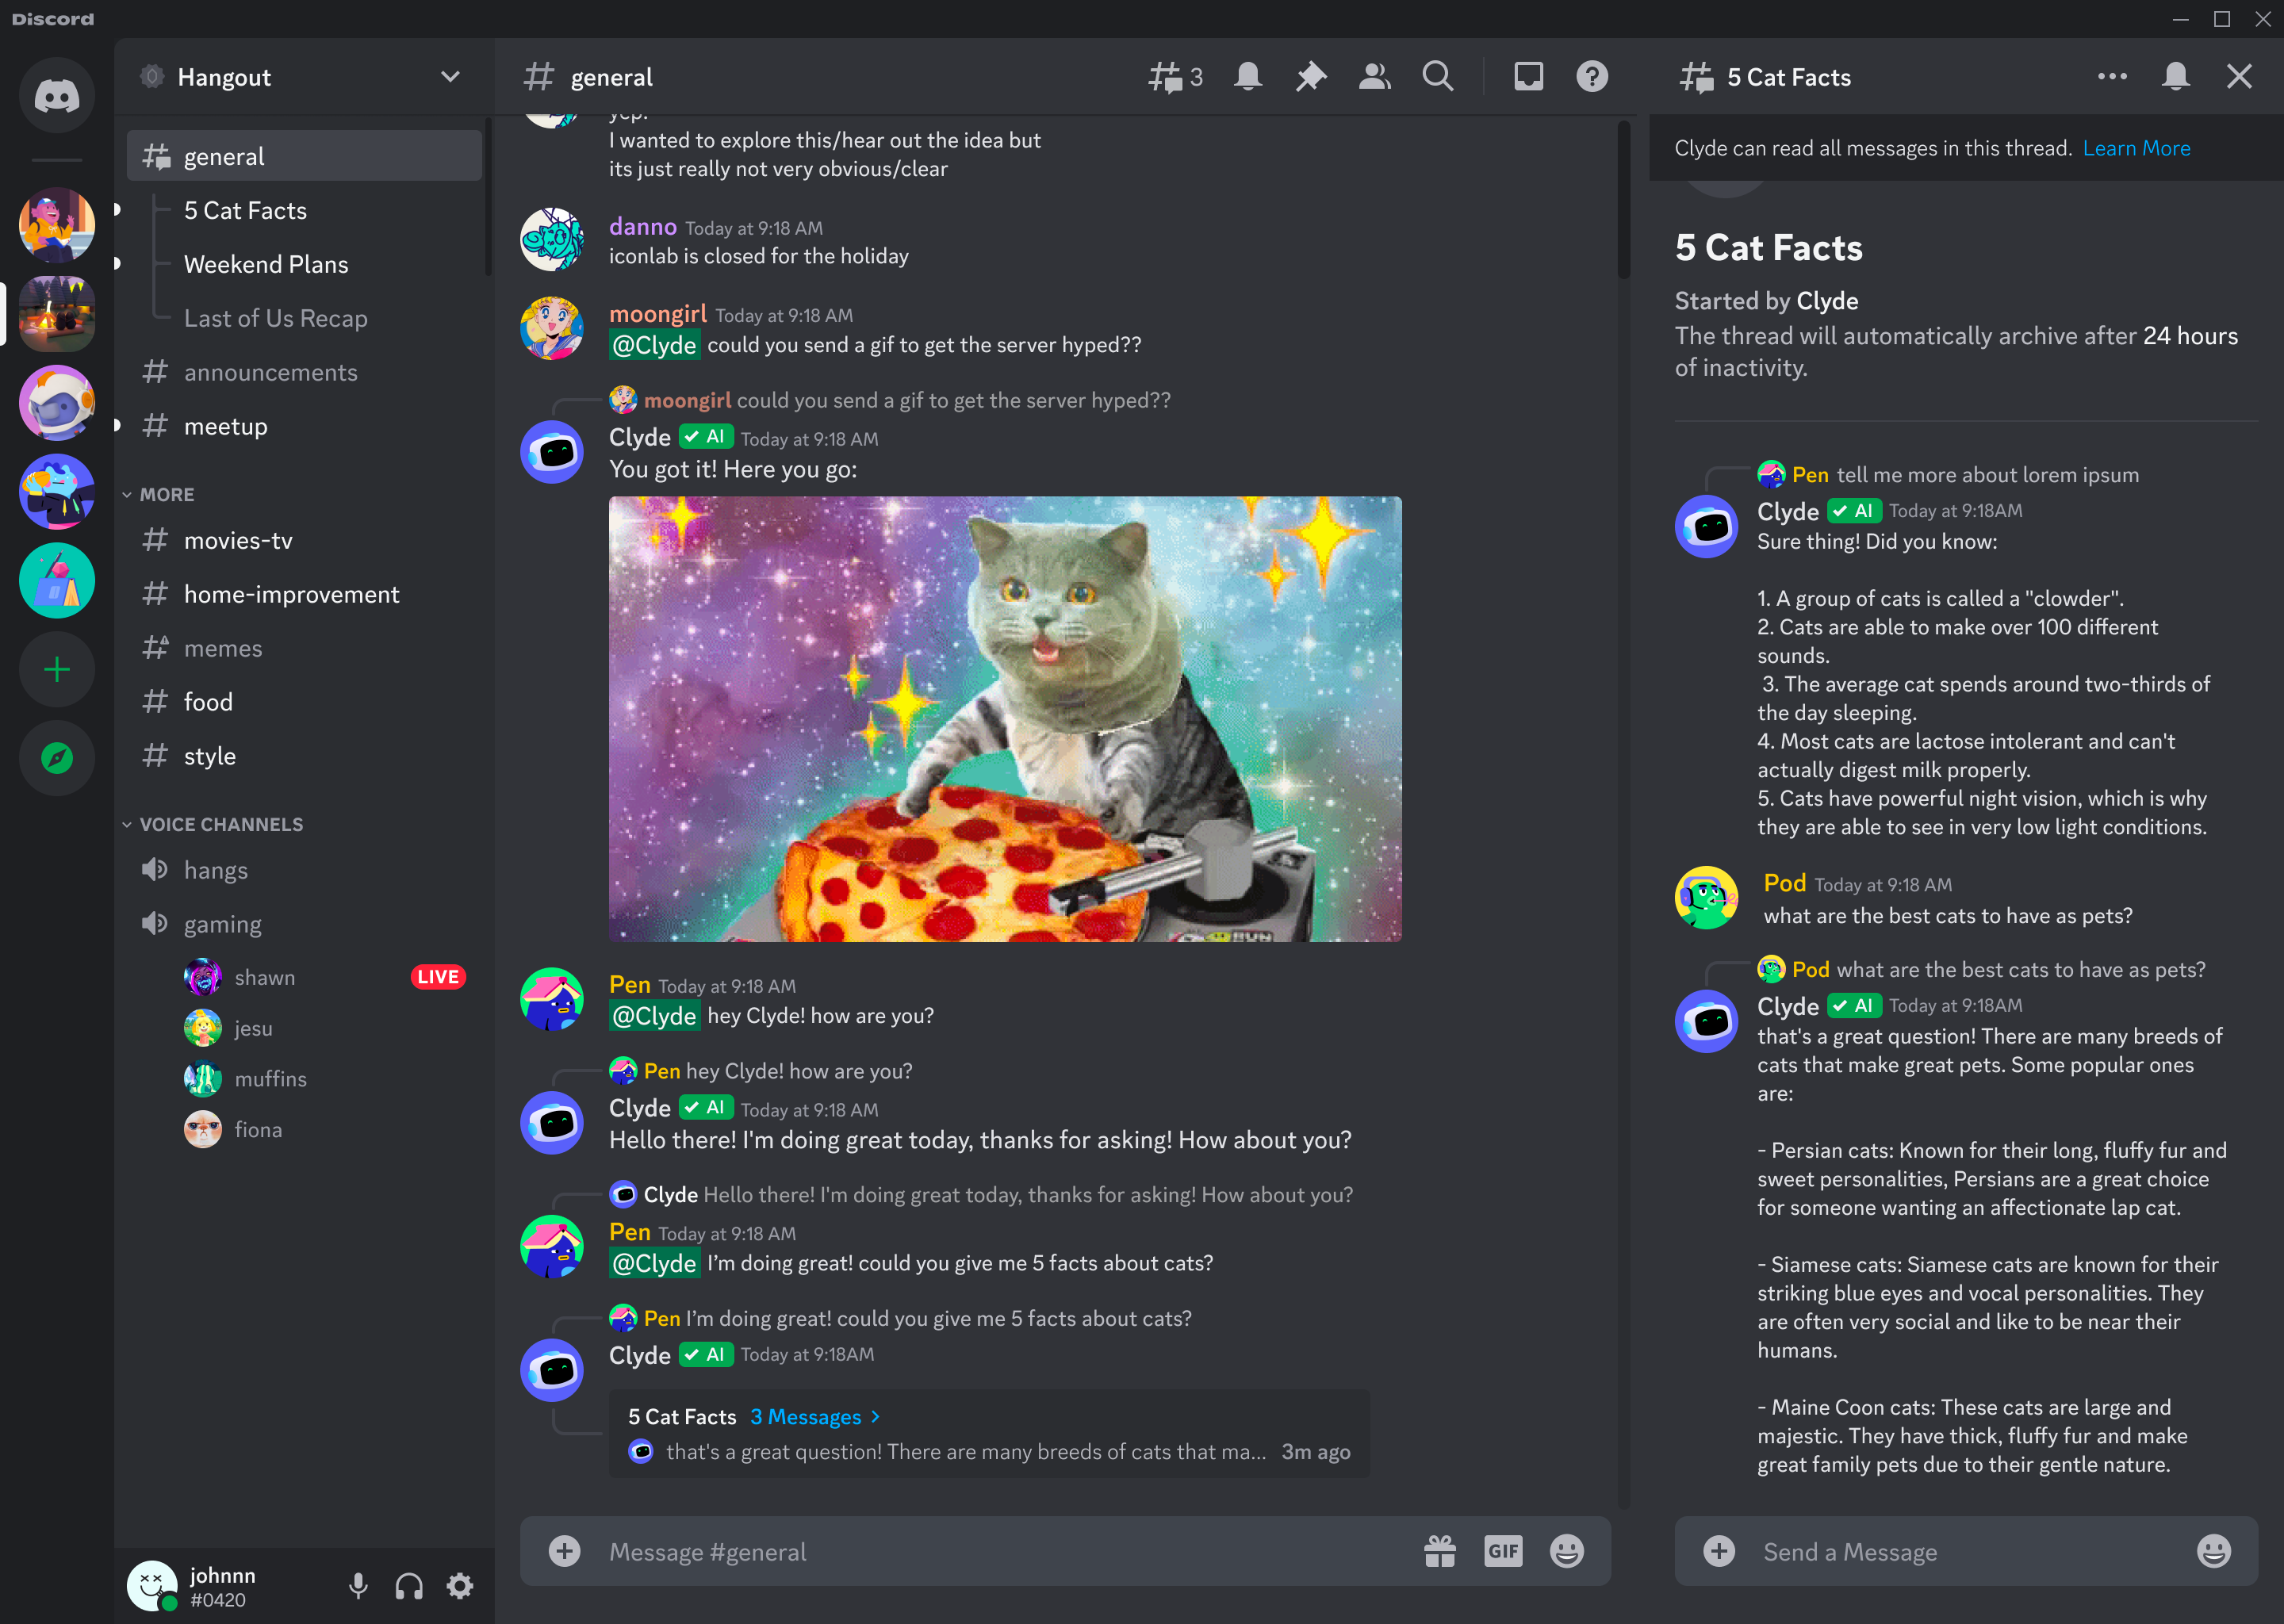thanks for asking!: (1026, 1183, 1189, 1202)
